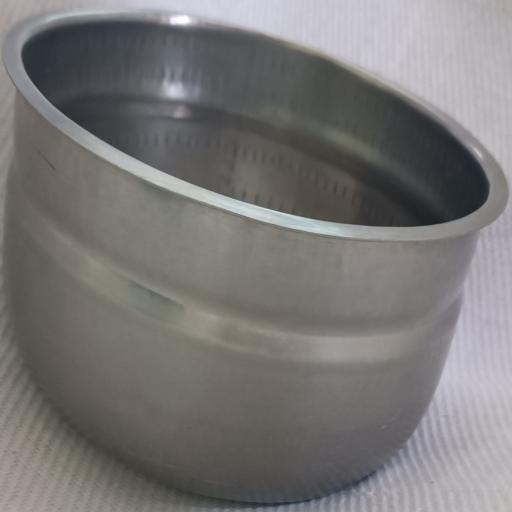vessel: (3, 12, 507, 502)
